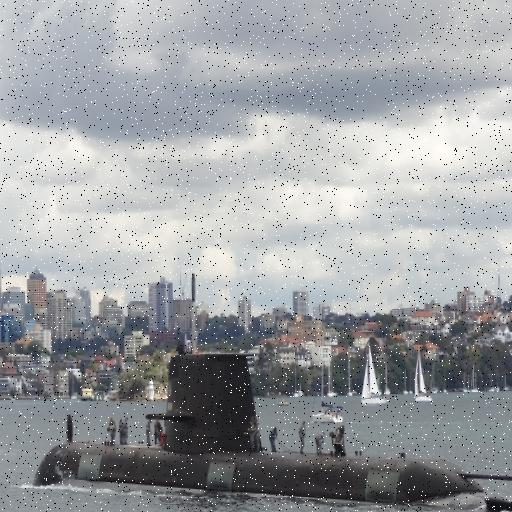submarine: (27, 354, 512, 512)
